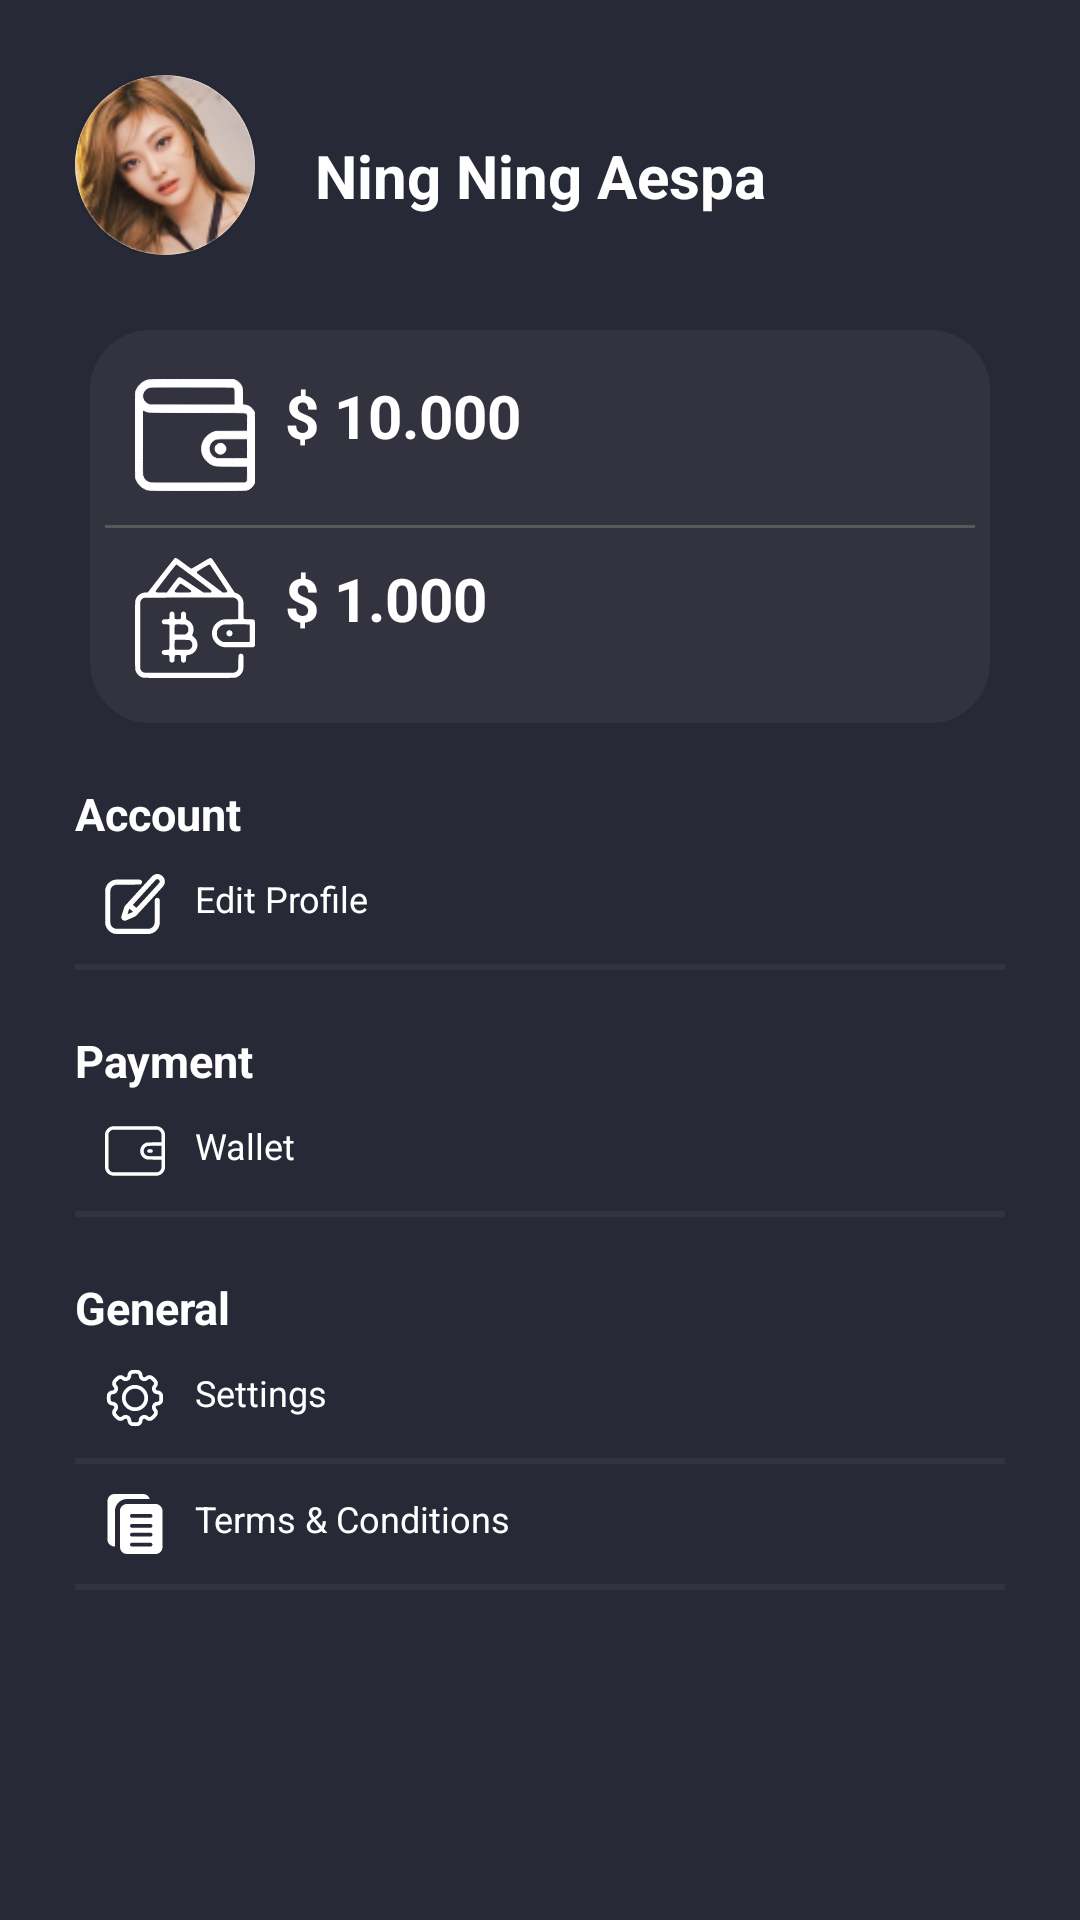

Screen size 1080px x 1920px. Icon name, then its box in pixels as {"x1": x1, "y1": y1, "x2": x2, "y2": y2}:
profile picture: {"x1": 75, "y1": 75, "x2": 255, "y2": 255}
